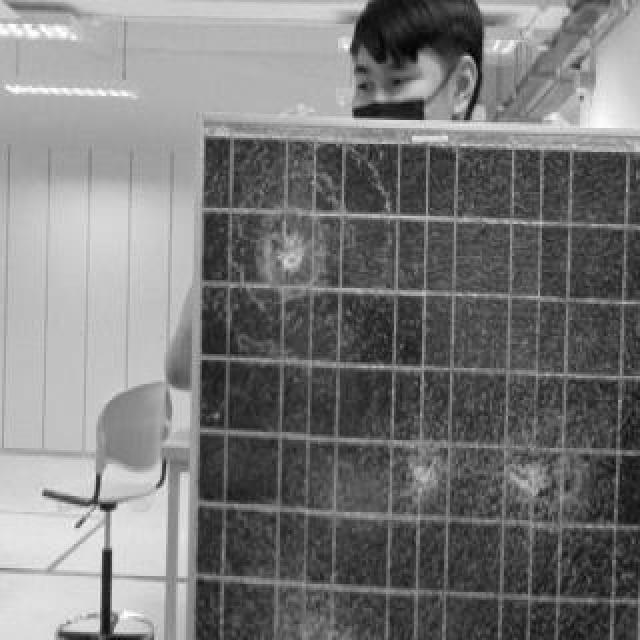Anomaly Solar Panel: (189, 133, 635, 640)
Structural Damage: (229, 194, 373, 318), (236, 579, 377, 640), (484, 447, 599, 517), (386, 447, 464, 507)
